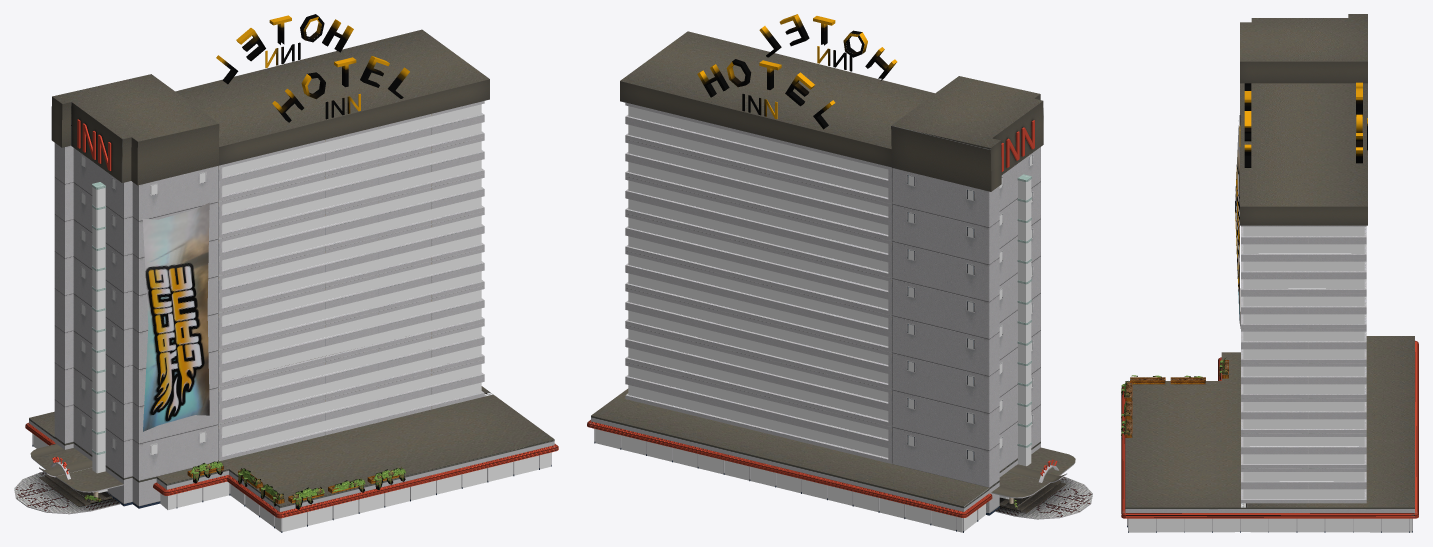
File: Hotel01.gltf
3 views of the same model, side by side, from view 1: azimuth 30°, elevation 25°; view 2: azimuth 150°, elevation 25°; view 3: azimuth 270°, elevation 25° (orthographic). The views are drawn at different scales.
Parts seen in each view (by area): view 1: Hotel01_node, Glas, Object02, Object03; view 2: Hotel01_node, Glas, Object02; view 3: Hotel01_node, Object02, Glas, Object03.
Part boxes in pixels (x1,y1,x2,y2): Hotel01_node: (14,101,558,532); Glas: (33,104,550,532); Object02: (51,14,489,497); Object03: (142,202,209,431); Hotel01_node: (587,103,1092,532); Glas: (595,106,1032,532); Object02: (620,14,1043,503); Hotel01_node: (1121,225,1418,532); Object02: (1239,14,1367,225); Glas: (1128,226,1412,532); Object03: (1235,120,1240,328).
Size of the model in its own units: 86.65 by 74.35 by 53.79.
Materials: 5 (4 with a texture image).
